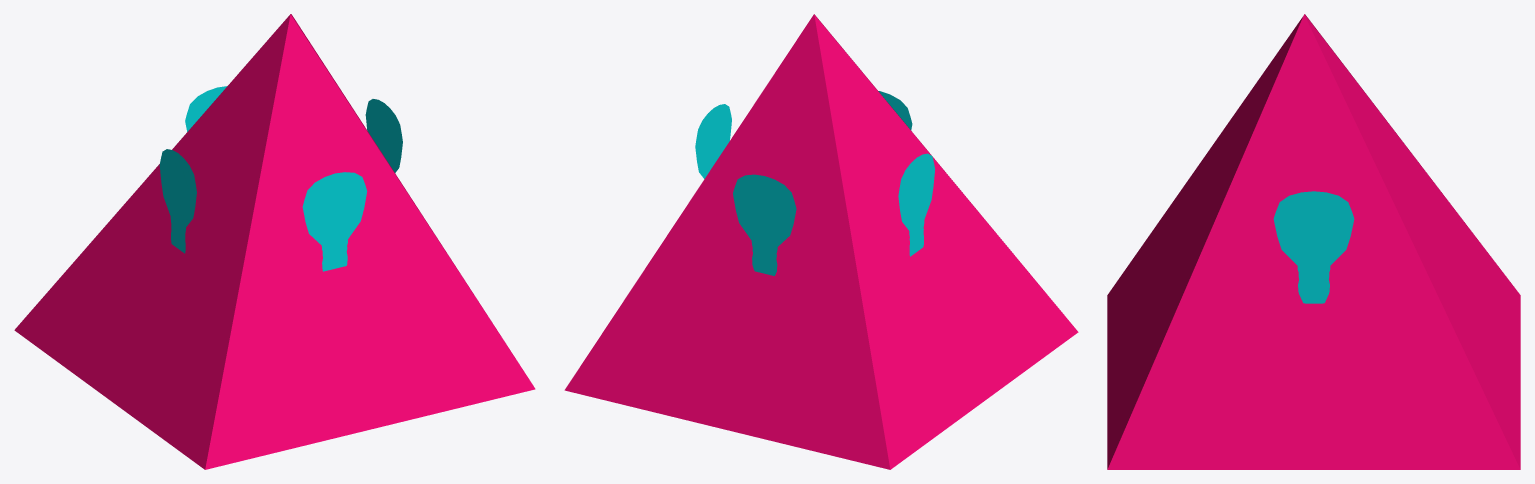
File: sooopsLit.glb
3 renders of one model, left to right at view 1: azimuth 30°, elevation 25°; view 2: azimuth 150°, elevation 25°; view 3: azimuth 270°, elevation 25°, orthographic. The views are drawn at different scales.
Visible parts, largest first — view 1: Cube, Circle.003; view 2: Cube, Circle.003; view 3: Cube, Circle.003.
Boxes of the visible parts, x1,y1,x2,y2 form: Cube: (14, 14, 535, 469); Circle.003: (159, 86, 402, 271); Cube: (564, 14, 1078, 469); Circle.003: (695, 91, 935, 275); Cube: (1107, 14, 1520, 469); Circle.003: (1273, 191, 1354, 303).
Bounding box in the file's own units: 2 × 2 × 2.
